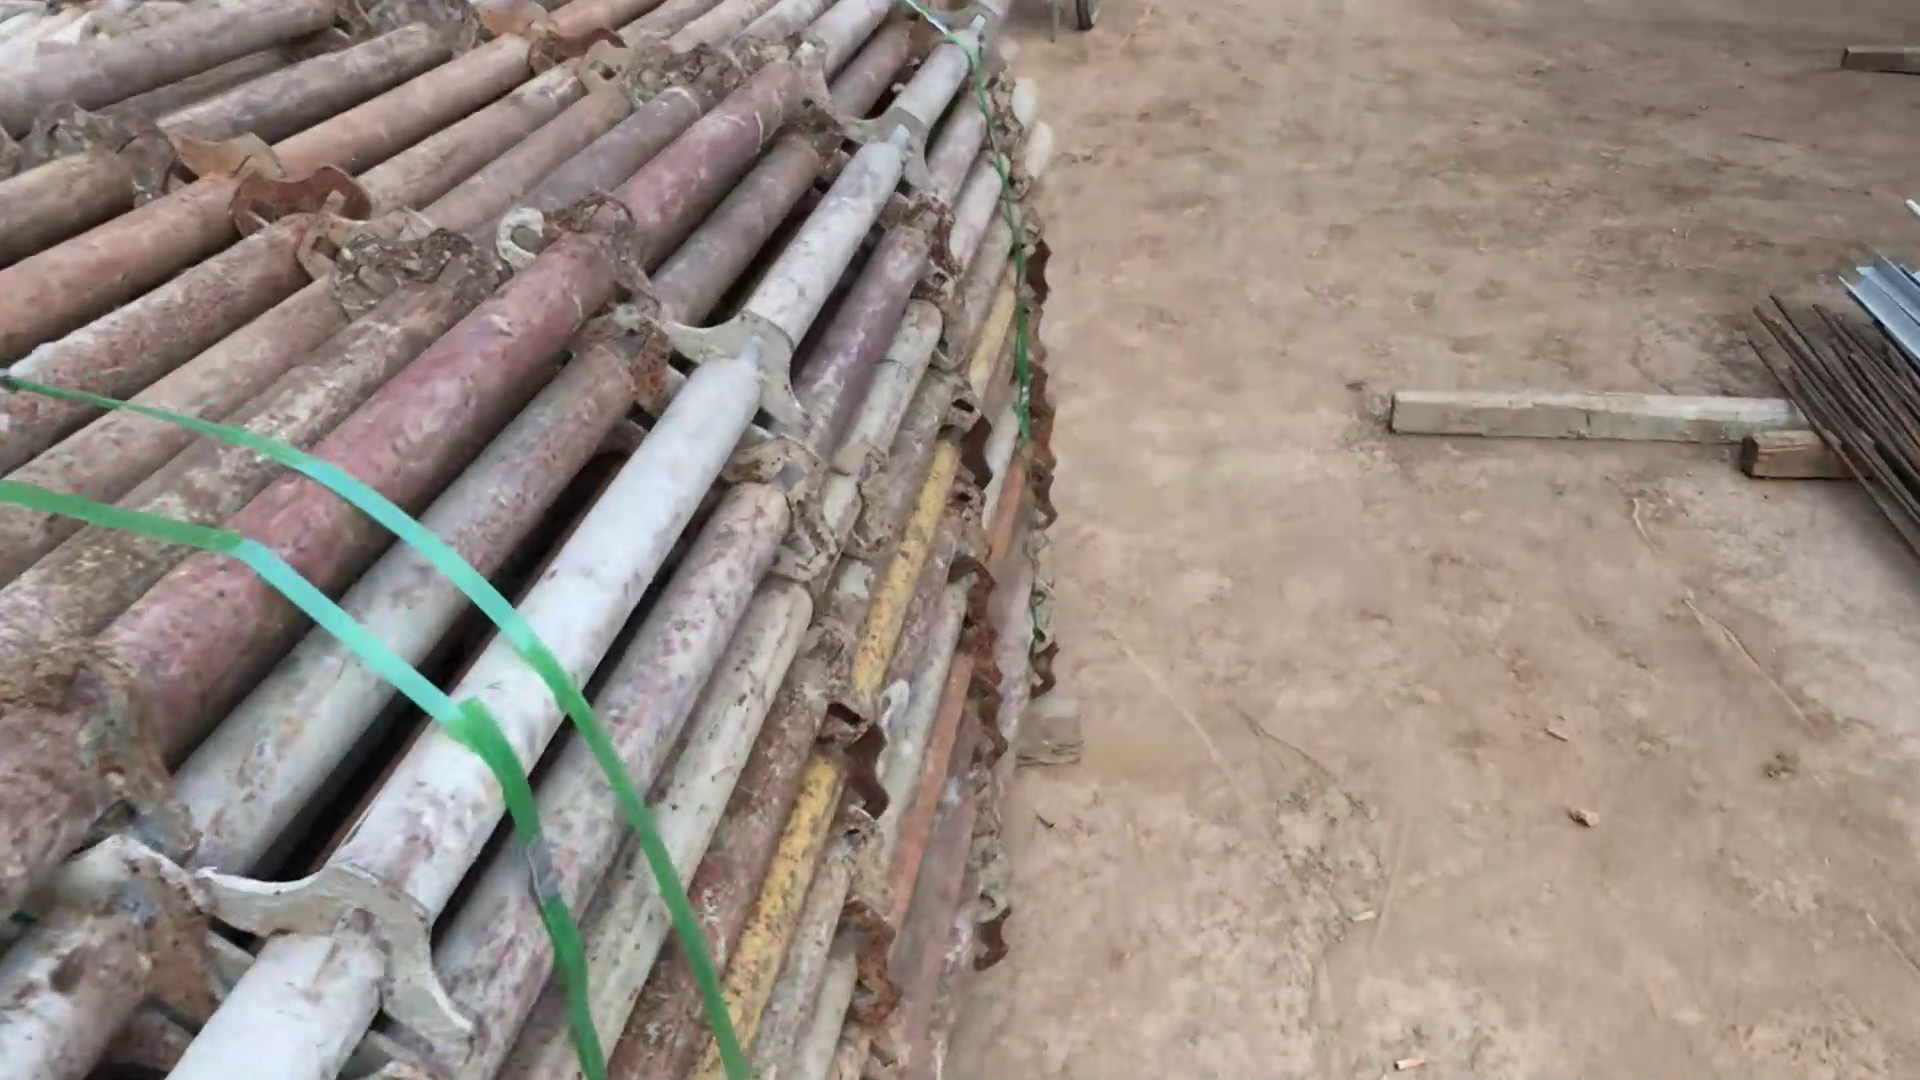scaffold: (1, 1, 1098, 1077)
